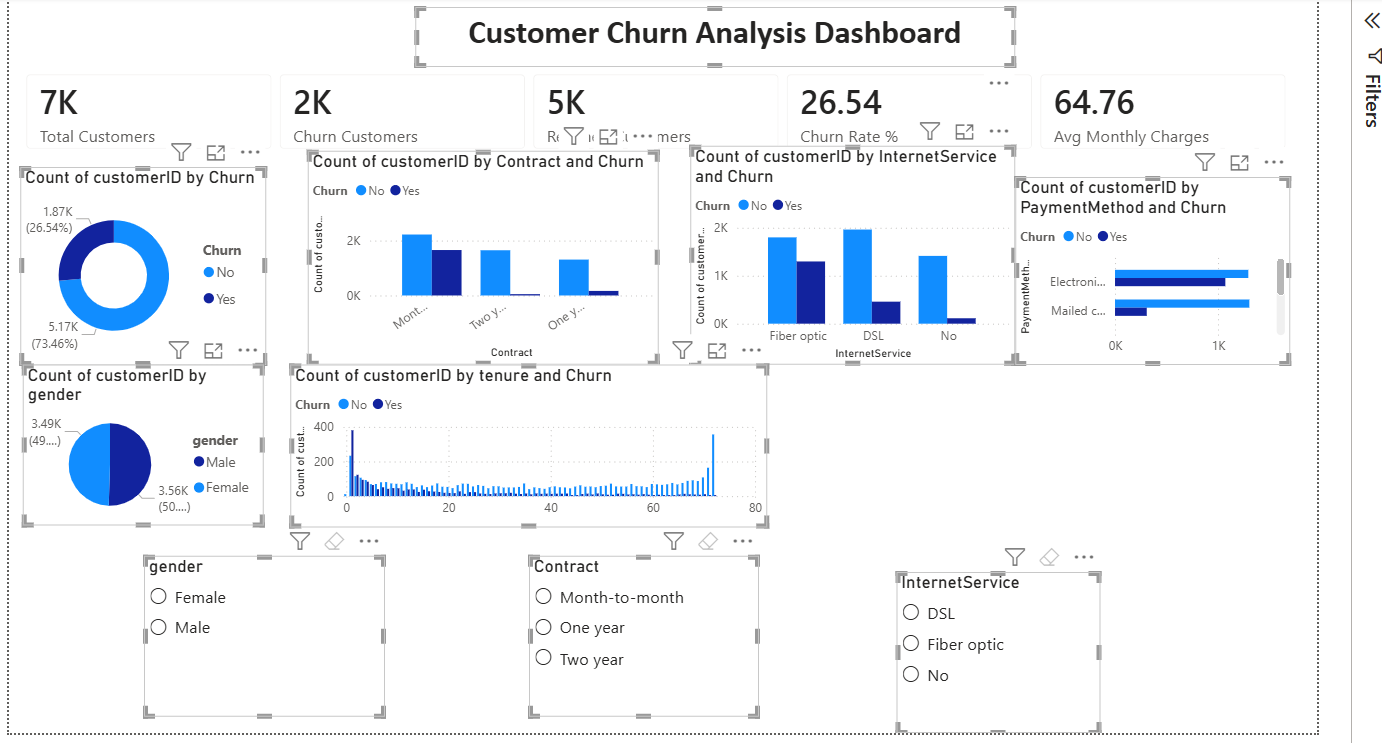

Layout of this report page (visuals, bound fields, positions):
{"tool":"powerbi","page":{"name":"Page 1","canvas":[1280,720],"ordinal":0},"visuals":[{"type":"cardVisual","fields":{"Data":["cleaned_churn.Total Customers","cleaned_churn.Churn Customers","cleaned_churn.Retained Customers","cleaned_churn.Churn Rate %","cleaned_churn.Avg Monthly Charges"]},"box":[0,59,1270.7,107],"z":0},{"type":"donutChart","fields":{"Category":["cleaned_churn.Churn"],"Y":["CountNonNull(cleaned_churn.customerID)"]},"box":[11,166,241.5,193.5],"z":1},{"type":"textbox","box":[397.9,9.6,585.9,59],"z":2},{"type":"clusteredColumnChart","fields":{"Category":["cleaned_churn.Contract"],"Y":["CountNonNull(cleaned_churn.customerID)"],"Series":["cleaned_churn.Churn"]},"box":[292.3,150.9,343.1,208.6],"z":3},{"type":"clusteredColumnChart","fields":{"Category":["cleaned_churn.InternetService"],"Y":["CountNonNull(cleaned_churn.customerID)"],"Series":["cleaned_churn.Churn"]},"box":[666.9,145.5,317,214.1],"z":4},{"type":"clusteredBarChart","fields":{"Category":["cleaned_churn.PaymentMethod"],"Y":["CountNonNull(cleaned_churn.customerID)"],"Series":["cleaned_churn.Churn"]},"box":[983.9,175.6,269,183.9],"z":5},{"type":"pieChart","fields":{"Category":["cleaned_churn.gender"],"Y":["CountNonNull(cleaned_churn.customerID)"]},"box":[13.7,359.5,236,157.8],"z":6},{"type":"listSlicer","fields":{"Values":["cleaned_churn.gender"]},"box":[132.1,546.6,236,157.7],"z":7},{"type":"listSlicer","fields":{"Values":["cleaned_churn.Contract"]},"box":[508.7,546.6,225,157.7],"z":8},{"type":"listSlicer","fields":{"Values":["cleaned_churn.InternetService"]},"box":[868.2,562.5,199.3,157.7],"z":9},{"type":"clusteredColumnChart","fields":{"Category":["cleaned_churn.tenure"],"Y":["CountNonNull(cleaned_churn.customerID)"],"Series":["cleaned_churn.Churn"]},"box":[275.1,359.5,467.1,159],"z":10}]}

Visuals, with their boxes on the page's 1280x720 design canvas (x1, y1, x2, y2). These are canvas units, not pixel positions in the 1382x743 screenshot, which may show the page scaled, cropped or inside an application window:
cardVisual - cleaned_churn.Total Customers x cleaned_churn.Churn Customers: 0:59:1271:166
donutChart - cleaned_churn.Churn x CountNonNull(cleaned_churn.customerID): 11:166:252:360
textbox: 398:10:984:69
clusteredColumnChart - cleaned_churn.Contract x CountNonNull(cleaned_churn.customerID): 292:151:635:360
clusteredColumnChart - cleaned_churn.InternetService x CountNonNull(cleaned_churn.customerID): 667:146:984:360
clusteredBarChart - cleaned_churn.PaymentMethod x CountNonNull(cleaned_churn.customerID): 984:176:1253:360
pieChart - cleaned_churn.gender x CountNonNull(cleaned_churn.customerID): 14:360:250:517
listSlicer - cleaned_churn.gender: 132:547:368:704
listSlicer - cleaned_churn.Contract: 509:547:734:704
listSlicer - cleaned_churn.InternetService: 868:562:1068:720
clusteredColumnChart - cleaned_churn.tenure x CountNonNull(cleaned_churn.customerID): 275:360:742:518
